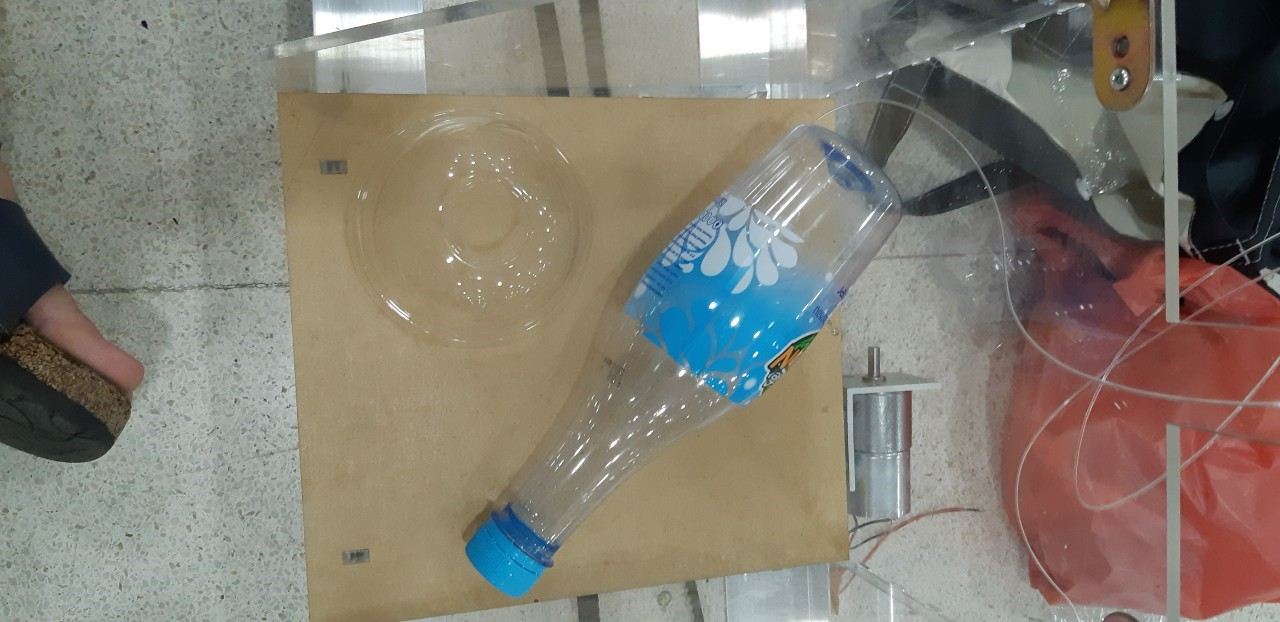PlasticBottle: (467, 122, 900, 599)
